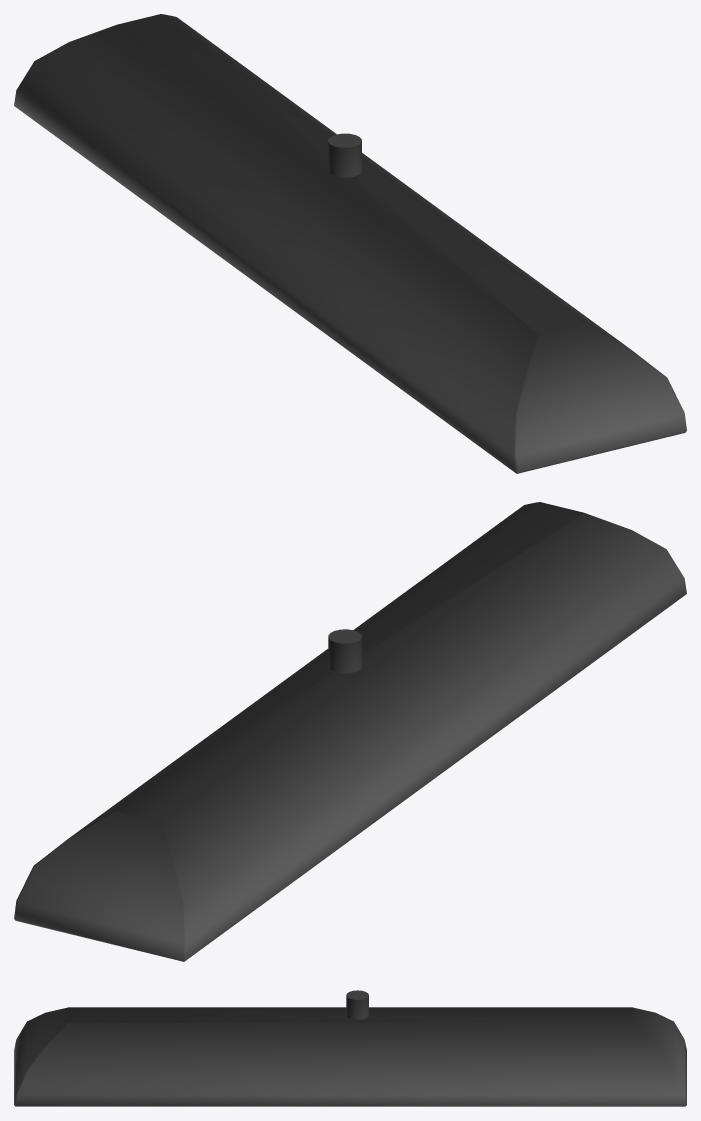
File: LightFixture.fbx
3 renders of one model, top to bottom at view 1: azimuth 30°, elevation 25°; view 2: azimuth 150°, elevation 25°; view 3: azimuth 270°, elevation 25°, orthographic. The views are drawn at different scales.
Parts seen in each view (by area): view 1: LightFixture, Cylinder; view 2: LightFixture, Cylinder; view 3: LightFixture, Cylinder.
Part boxes in pixels (bbox=[...]): LightFixture: bbox=[14, 14, 686, 473]; Cylinder: bbox=[328, 133, 361, 177]; LightFixture: bbox=[14, 502, 686, 961]; Cylinder: bbox=[328, 629, 361, 673]; LightFixture: bbox=[14, 1007, 686, 1106]; Cylinder: bbox=[346, 990, 368, 1019].
Bounding box in the file's own units: 134 × 93.58 × 681.
